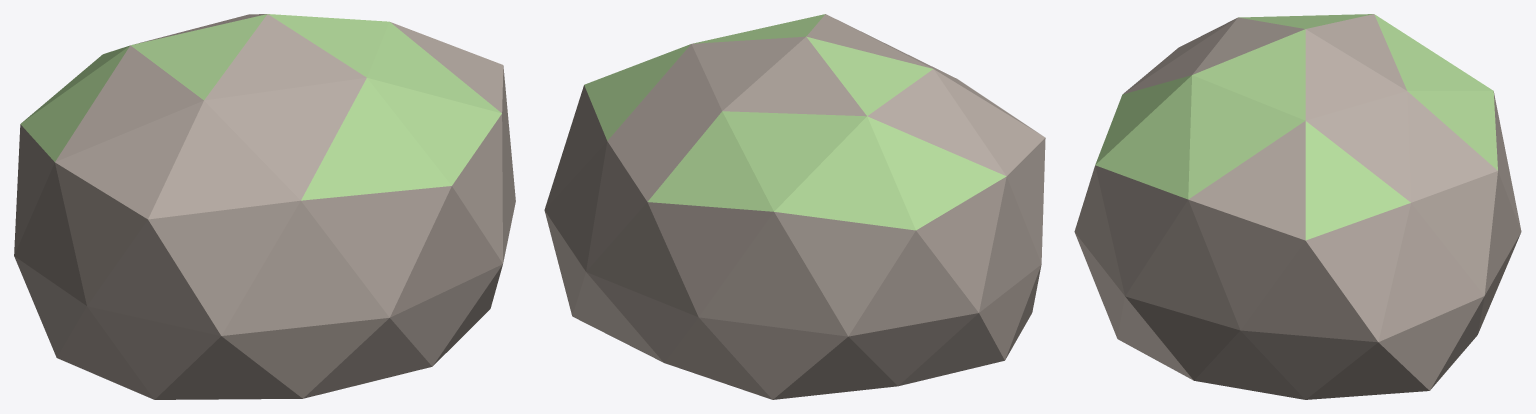
The model's file is VCaveWall_C.fbx.
3 views of the same model, side by side, from view 1: azimuth 30°, elevation 25°; view 2: azimuth 150°, elevation 25°; view 3: azimuth 270°, elevation 25° (orthographic). The views are drawn at different scales.
Parts seen in each view (by area): view 1: VCaveWall_C; view 2: VCaveWall_C; view 3: VCaveWall_C.
Boxes of the visible parts, x1,y1,x2,y2 form: VCaveWall_C: [14, 14, 515, 399]; VCaveWall_C: [544, 14, 1045, 399]; VCaveWall_C: [1074, 14, 1521, 399].
Size of the model in its own units: 2.01 by 1.29 by 1.79.
